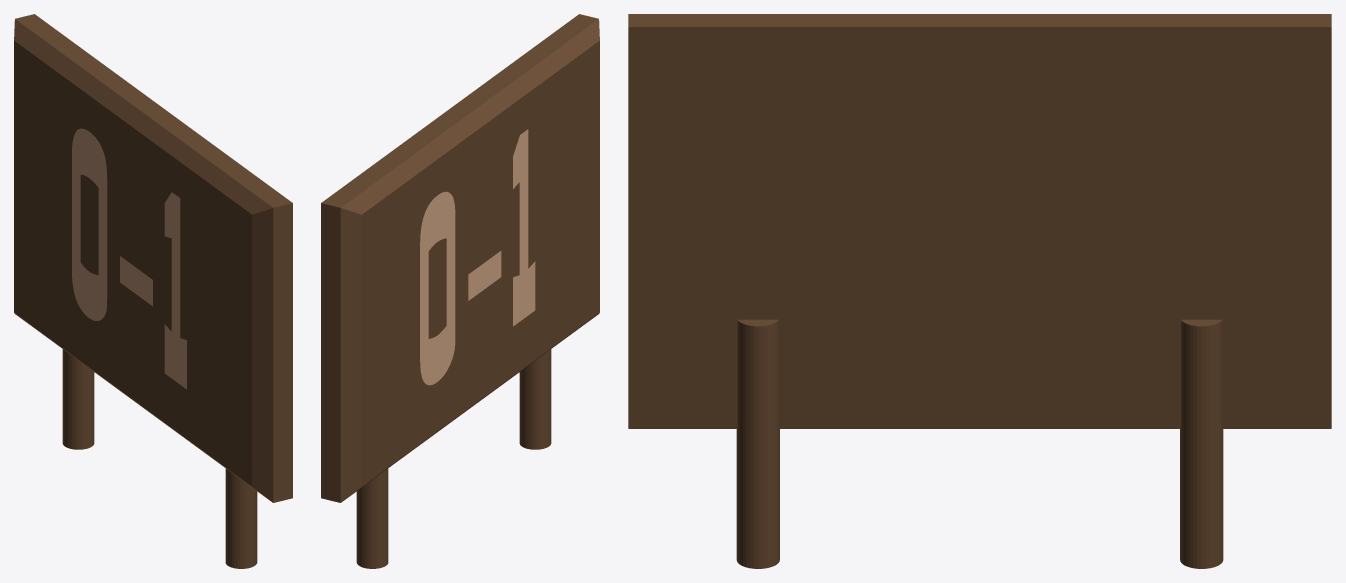
3 renders of one model, left to right at view 1: azimuth 30°, elevation 25°; view 2: azimuth 150°, elevation 25°; view 3: azimuth 270°, elevation 25°, orthographic. The views are drawn at different scales.
Parts seen in each view (by area): view 1: Cube.007, Text, Cylinder, Cylinder.001; view 2: Cube.007, Text, Cylinder.001, Cylinder; view 3: Cube.007, Cylinder, Cylinder.001.
Part boxes in pixels (<box>): Cube.007: <box>14,14,292,502</box>; Text: <box>72,128,186,389</box>; Cylinder: <box>62,349,94,449</box>; Cylinder.001: <box>225,468,257,568</box>; Cube.007: <box>321,14,599,502</box>; Text: <box>420,129,535,385</box>; Cylinder.001: <box>519,349,551,449</box>; Cylinder: <box>356,468,388,568</box>; Cube.007: <box>628,14,1331,428</box>; Cylinder: <box>1180,319,1223,568</box>; Cylinder.001: <box>736,319,779,568</box>.
Bounding box in the file's own units: 28.97 × 266 × 317.
